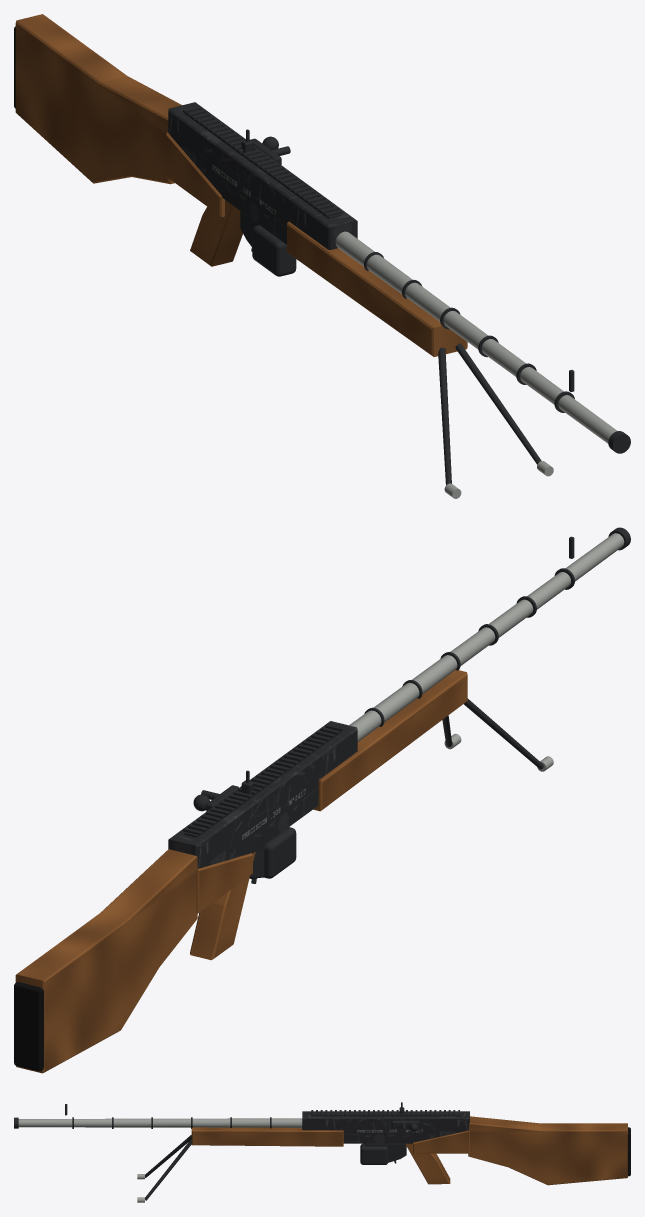
The model's file is 05-fusil-de-precision.glb.
3 views of the same model, one above another, from view 1: azimuth 30°, elevation 25°; view 2: azimuth 150°, elevation 25°; view 3: azimuth 270°, elevation 25° (orthographic). The views are drawn at different scales.
Size of the model in its own units: 0.154 by 0.247 by 1.56.
7 materials, 3 textured.
